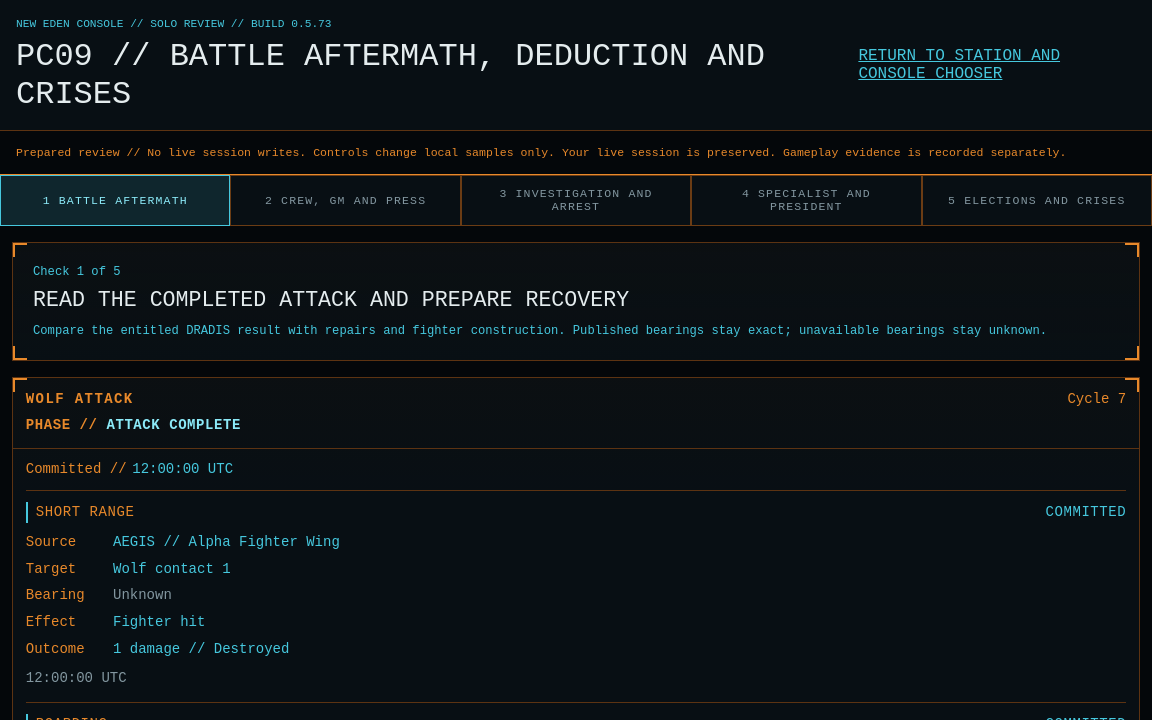
Test: uses the real detector and VIP presenters with local committed samples and preserves session identity
Click the button "3 Investigation and arrest" at (576, 200), box [461, 175, 691, 226]
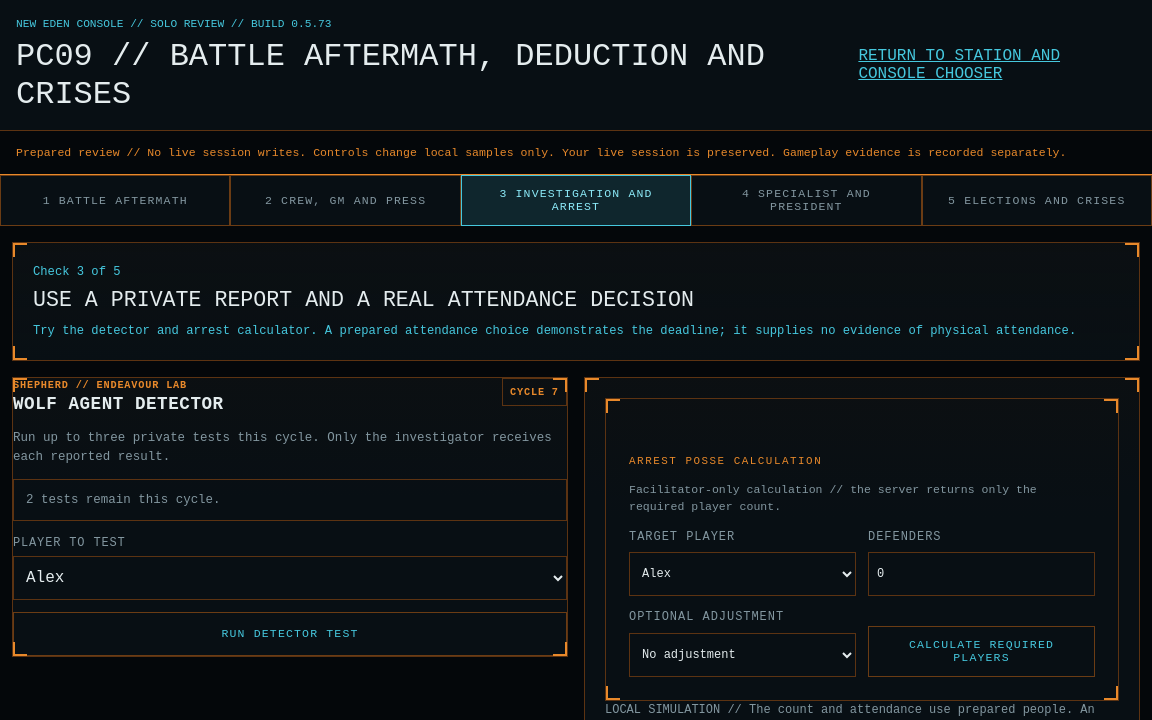
Check: the element "Wolf Agent Detector" shows "2 tests remain", box [12, 377, 568, 656]
Click the button "Run detector test" at (290, 634), box [13, 612, 567, 656]
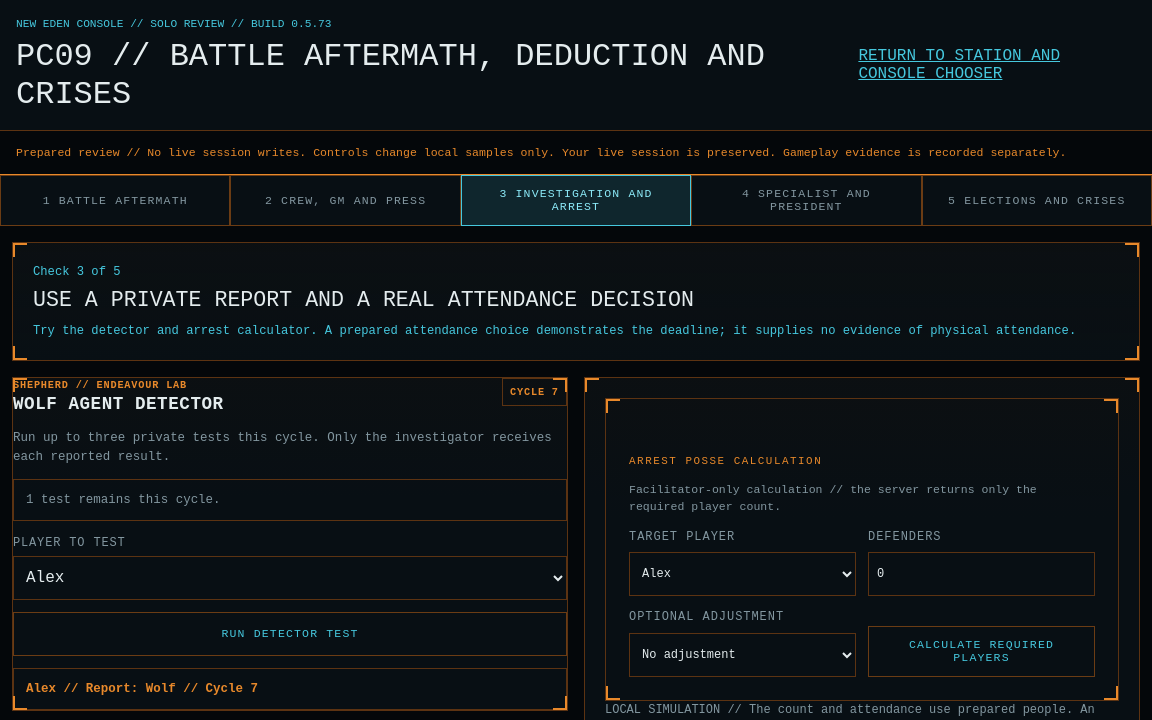
Check: the element "Wolf Agent Detector" shows "Alex // Report: Wolf", box [12, 377, 568, 711]
Check: the element "Wolf Agent Detector" shows "1 test remains", box [12, 377, 568, 711]
Click the button "4 Specialist and President" at (806, 200), box [691, 175, 922, 226]
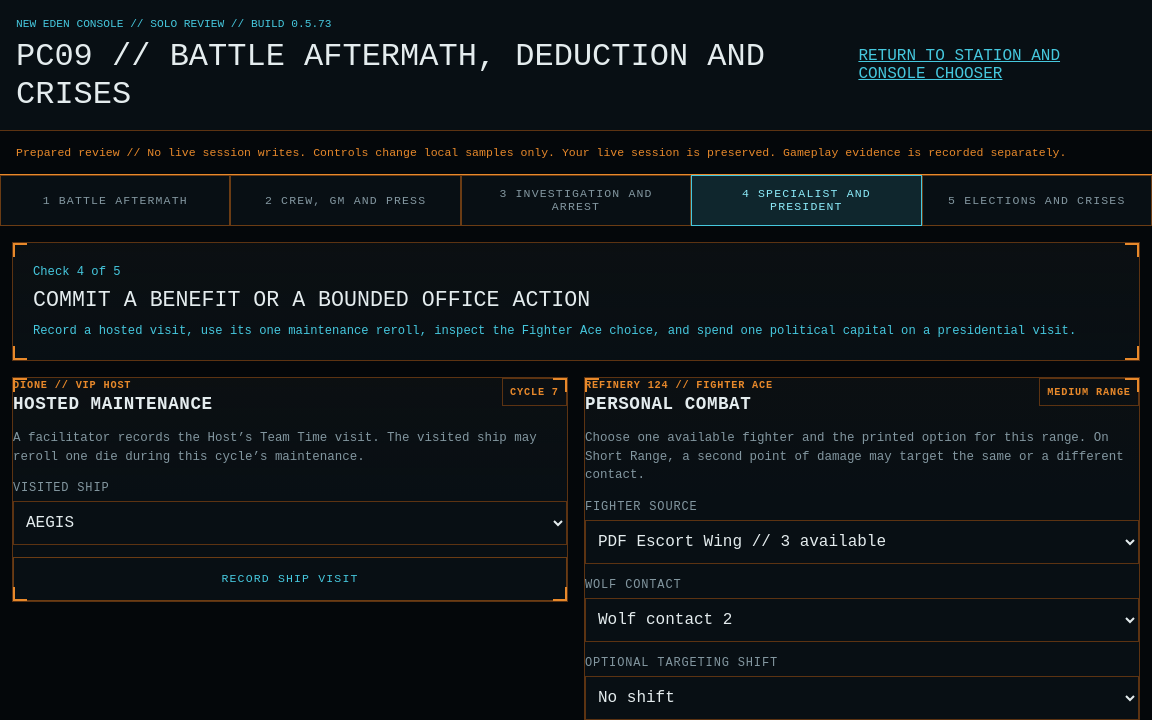
Click the button "Record ship visit" at (290, 579), box [13, 557, 567, 601]
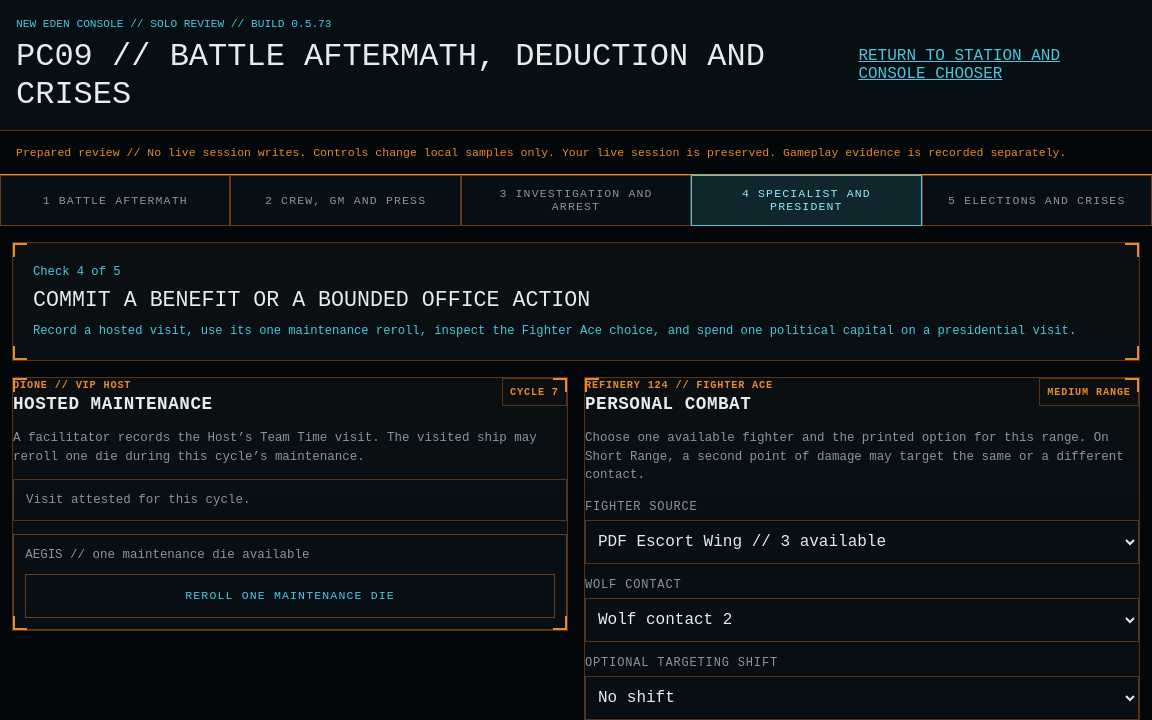
Check: the button "Reroll one maintenance die" is enabled
Click the button "Reroll one maintenance die" at (290, 596), box [25, 574, 555, 618]
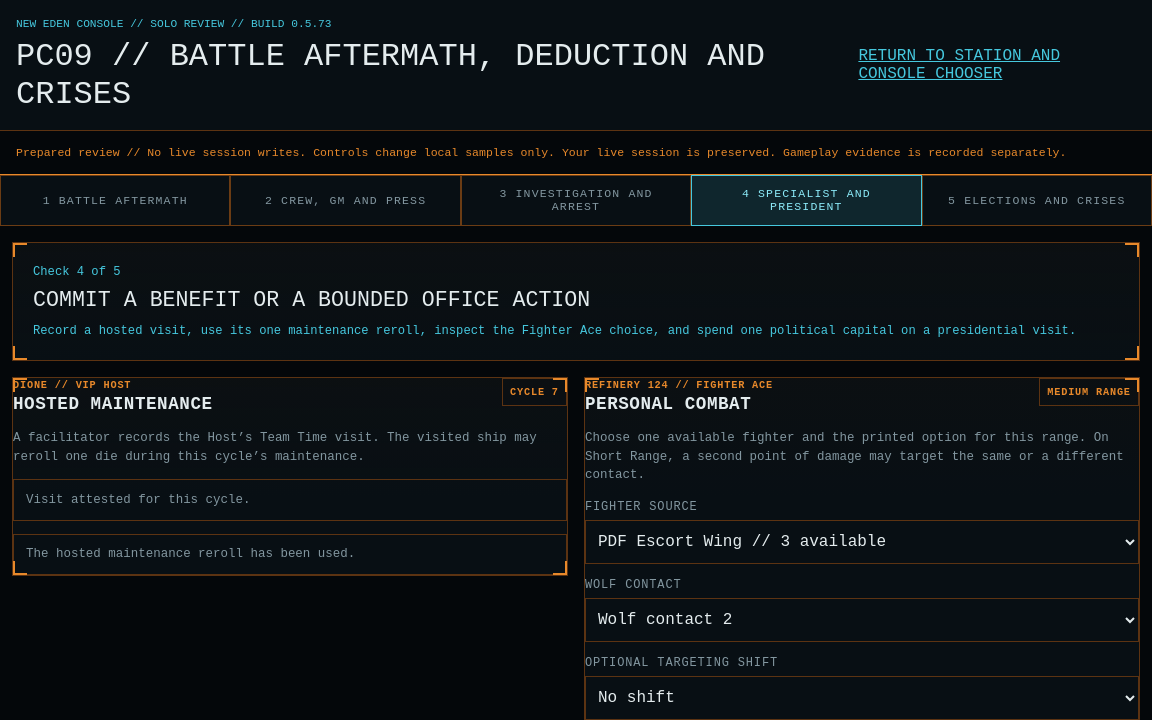
Check: the element named "VIP Host maintenance benefit" shows "reroll has been used", box [26, 547, 355, 561]
